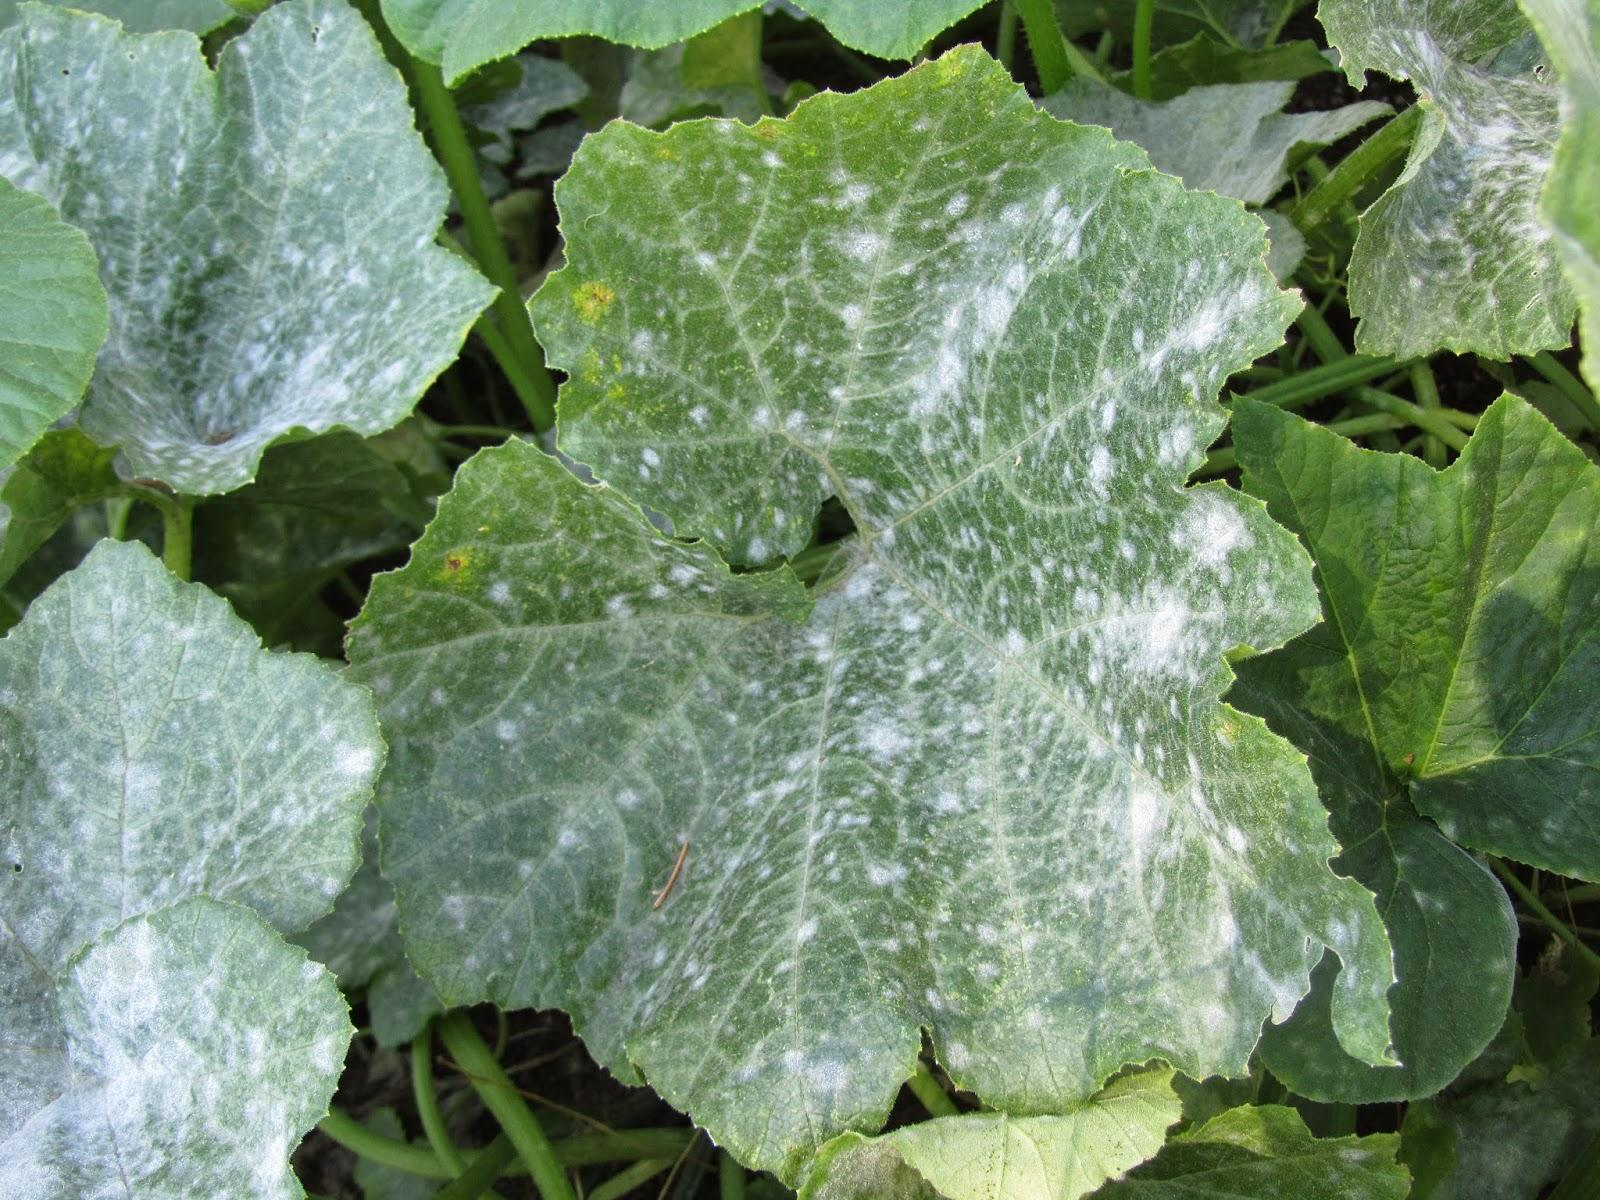Squash Powdery mildew leaf: (301, 38, 1437, 1148), (1, 534, 401, 1197), (1, 16, 510, 495), (1311, 1, 1584, 386)
